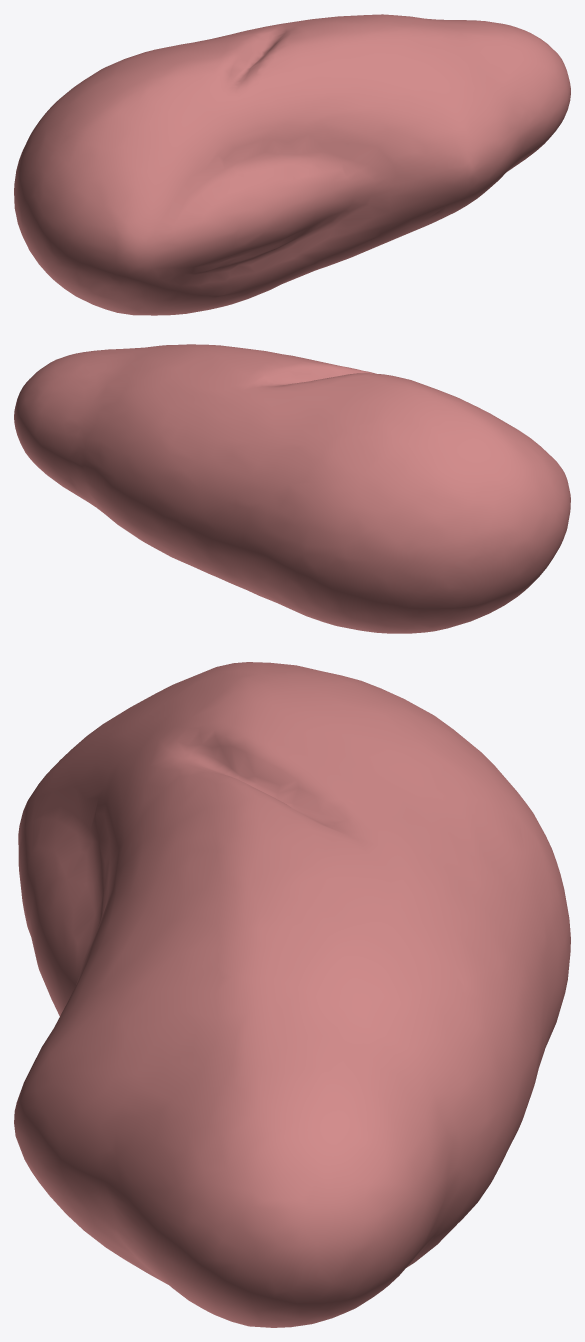
The model's file is lung.glb.
3 renders of one model, top to bottom at view 1: azimuth 30°, elevation 25°; view 2: azimuth 150°, elevation 25°; view 3: azimuth 270°, elevation 25°, orthographic. The views are drawn at different scales.
Parts seen in each view (by area): view 1: Lung; view 2: Lung; view 3: Lung.
Part boxes in pixels (x1,y1,x2,y2): Lung: [14, 14, 570, 315]; Lung: [14, 344, 570, 633]; Lung: [14, 662, 570, 1327].
Size of the model in its own units: 2.21 by 0.9546 by 1.04.
